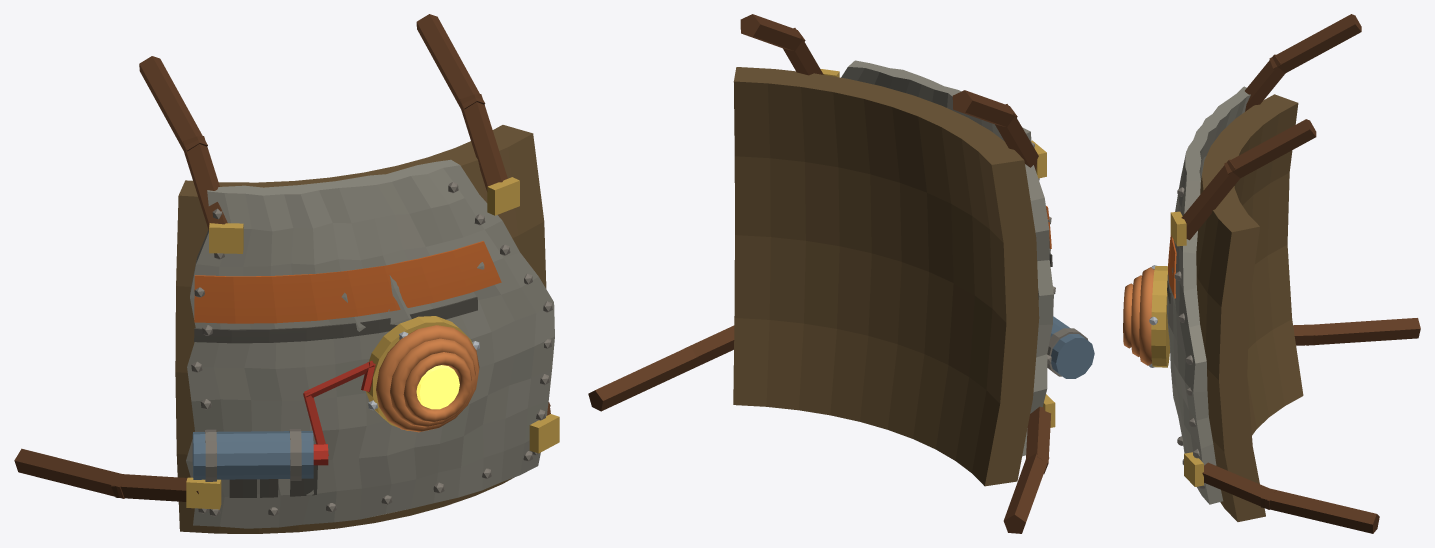
Rendered from shield.glb.
3 views of the same model, side by side, from view 1: azimuth 30°, elevation 25°; view 2: azimuth 150°, elevation 25°; view 3: azimuth 270°, elevation 25° (orthographic). The views are drawn at different scales.
Visible parts, largest first — view 1: shield; view 2: shield; view 3: shield.
Part boxes in pixels (x1,y1,x2,y2): shield: (14,14,559,533); shield: (588,14,1094,533); shield: (1123,14,1420,533).
Bounding box in the file's own units: 0.3985 × 0.345 × 0.2457.
